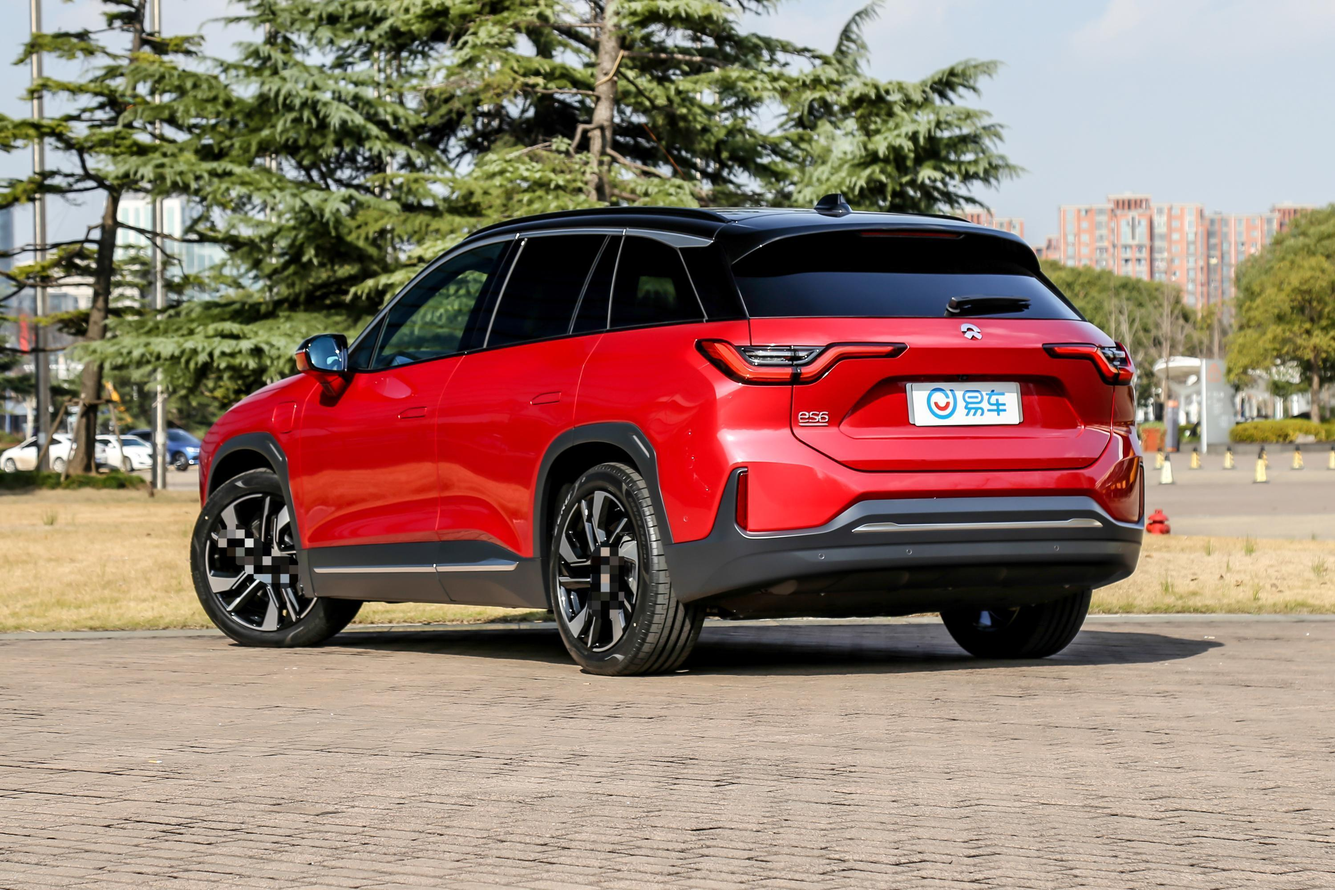NIO: (961, 322, 983, 340)
